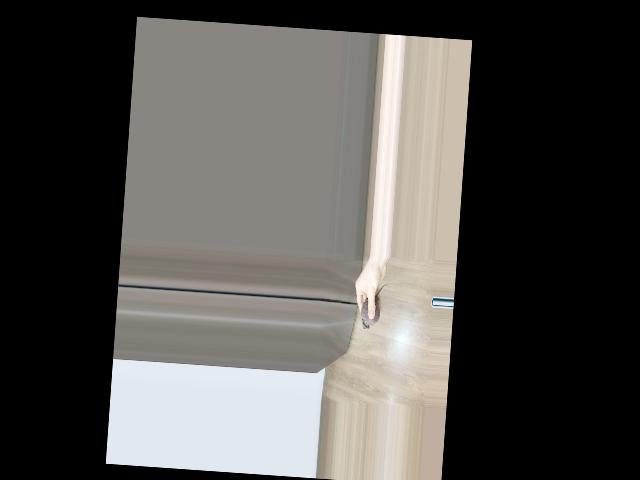beet: (360, 283, 388, 331)
